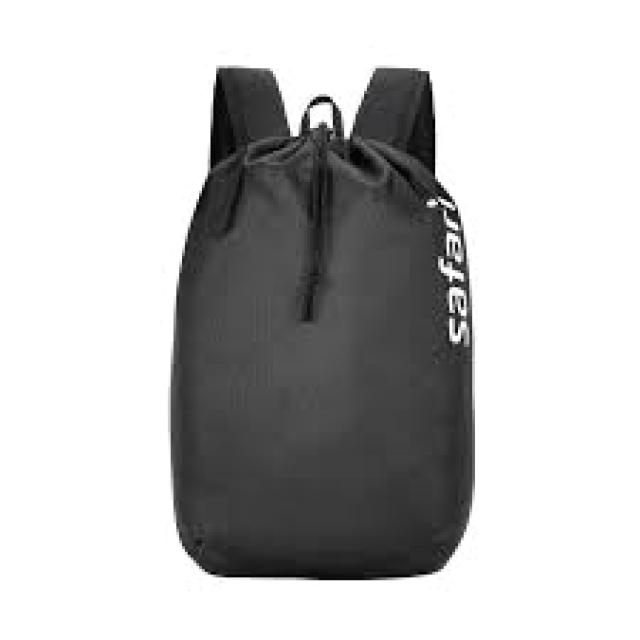backpack: (169, 64, 476, 579)
